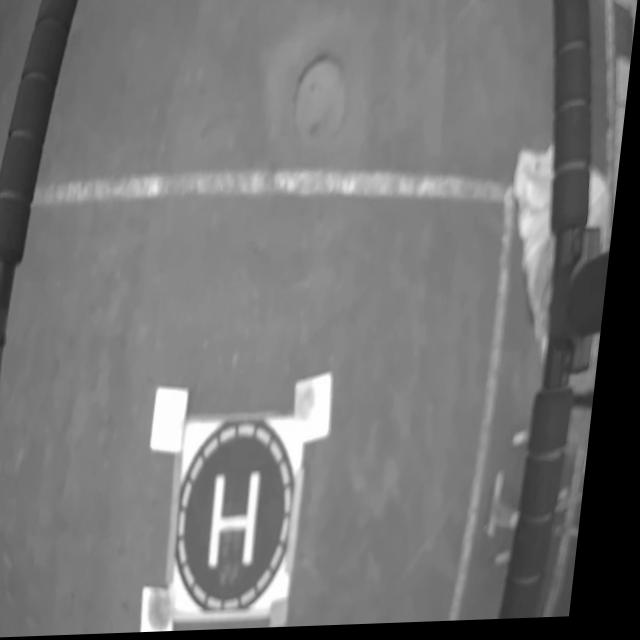Helipad: (220, 473, 274, 572)
